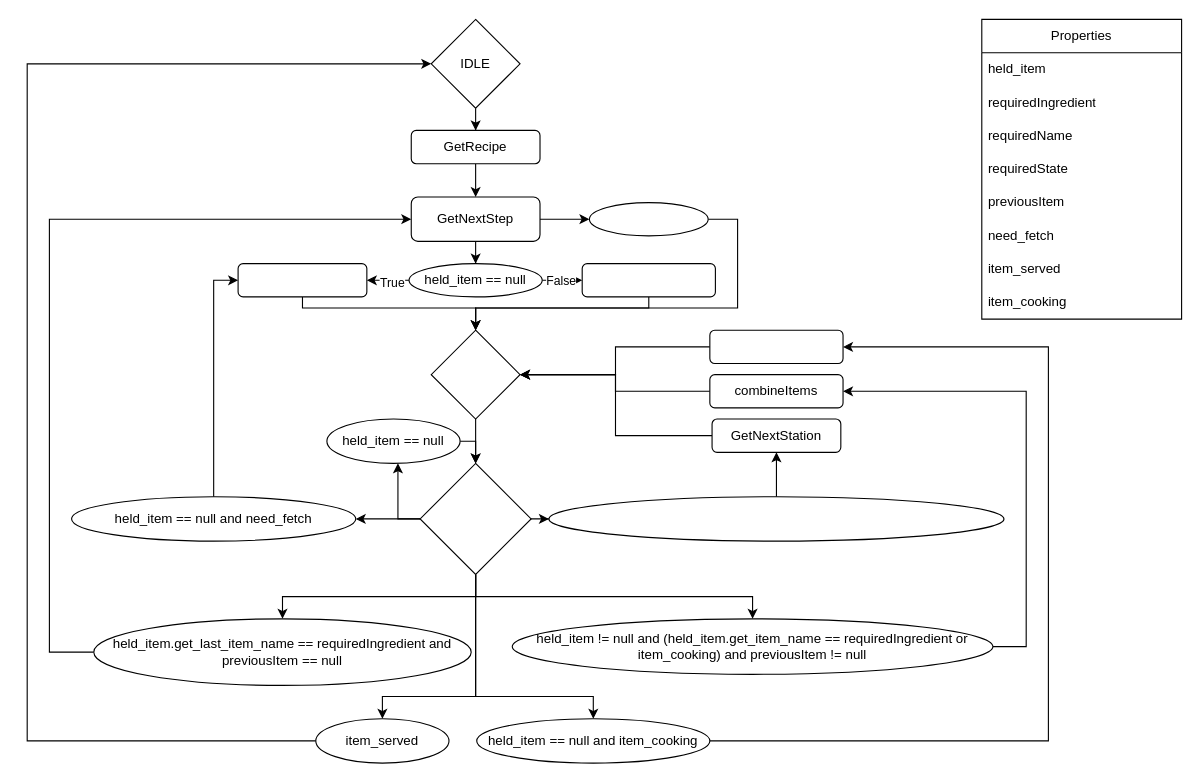
Image size: 1201x783. Some labels were removed from this diagram. Here are the shapes that lost their labels. From the top down, the box of each, then its label:
(588, 201, 708, 236): recipe_complete
(237, 263, 367, 297): FetchIngredient
(581, 263, 715, 297): StoreItem
(709, 329, 843, 364): FetchPreviousItem
(430, 329, 520, 419): MOVING
(419, 462, 531, 574): INTERACTING
(548, 496, 1004, 541): held_item.name == requiredName and held_item.state != requiredState
